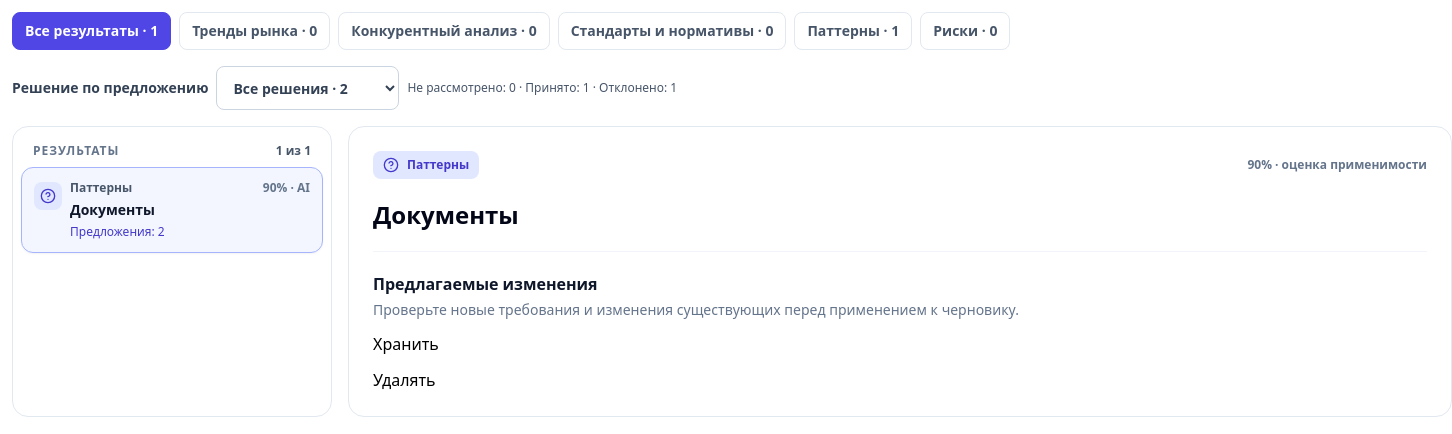
Test: avoids repeated evidence warnings and decisions can be filtered
Step 1. Select "Отклонено · 1" in the dropdown labelled "Решение по предложению" → (308, 88), box [216, 66, 399, 110]
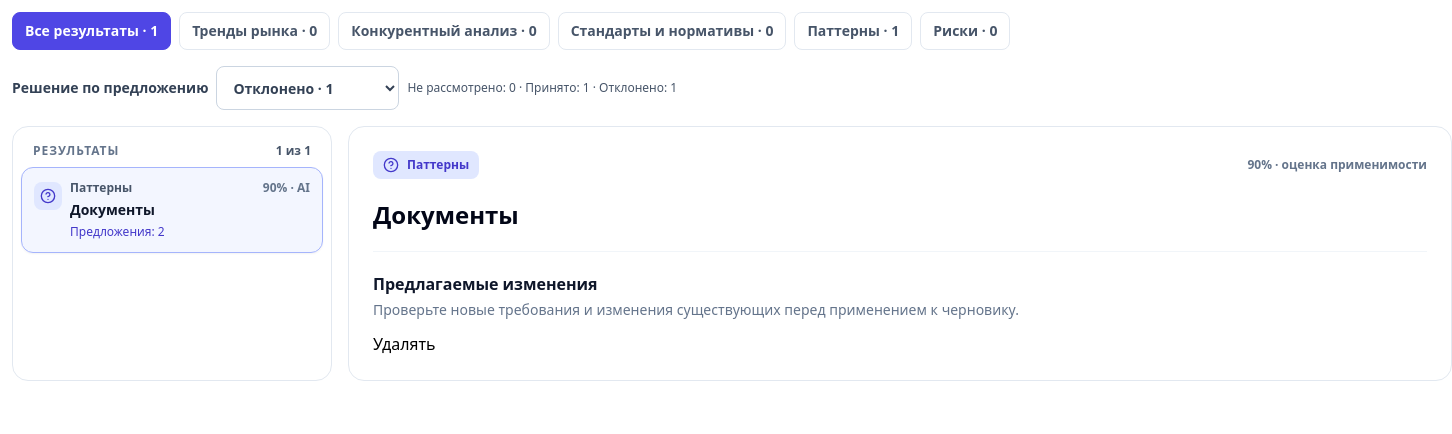
Check: the text "Удалять" is shown, box [373, 333, 436, 355]
Check: the text "Хранить" is gone
Step 2. Select "Не рассмотрено · 0" in the dropdown labelled "Решение по предложению" → (308, 88), box [216, 66, 399, 110]
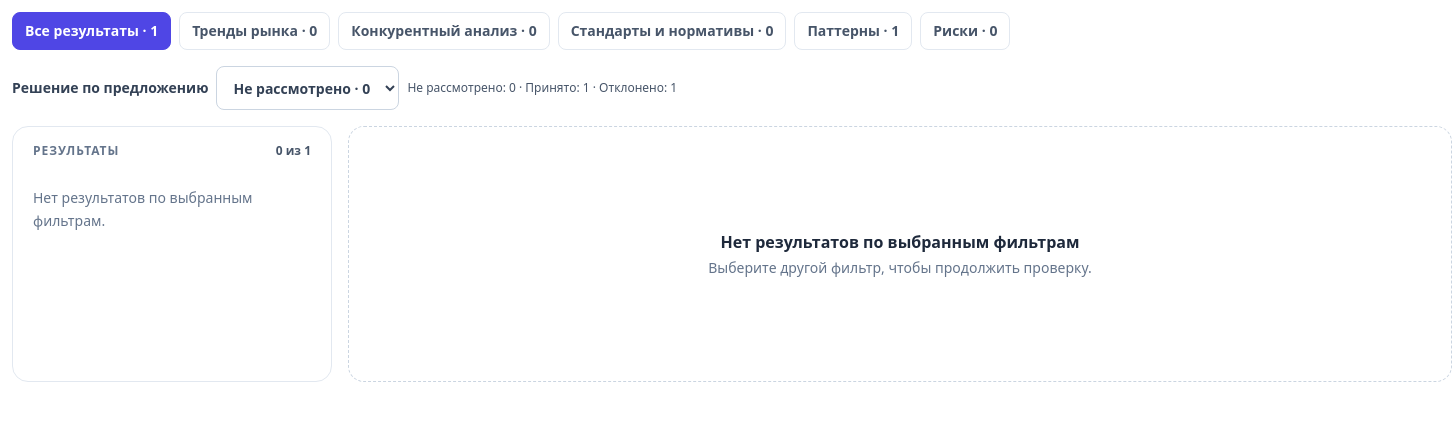
Check: the element named "Пустой результат фильтра" is shown, box [348, 126, 1451, 382]
